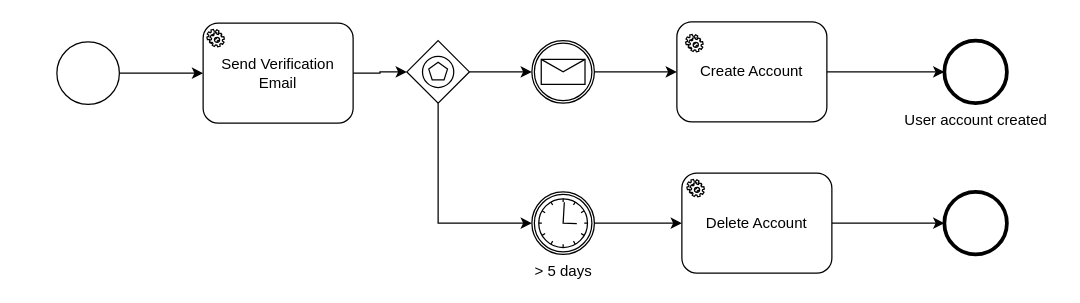
Image size: 1080x303. Some labels were removed from this diagram. The centre of each missing label's shape, as x and y in pixels:
User account not created: point 975,222
User creation application received: point 87,72
Verification code verified: point 562,71
